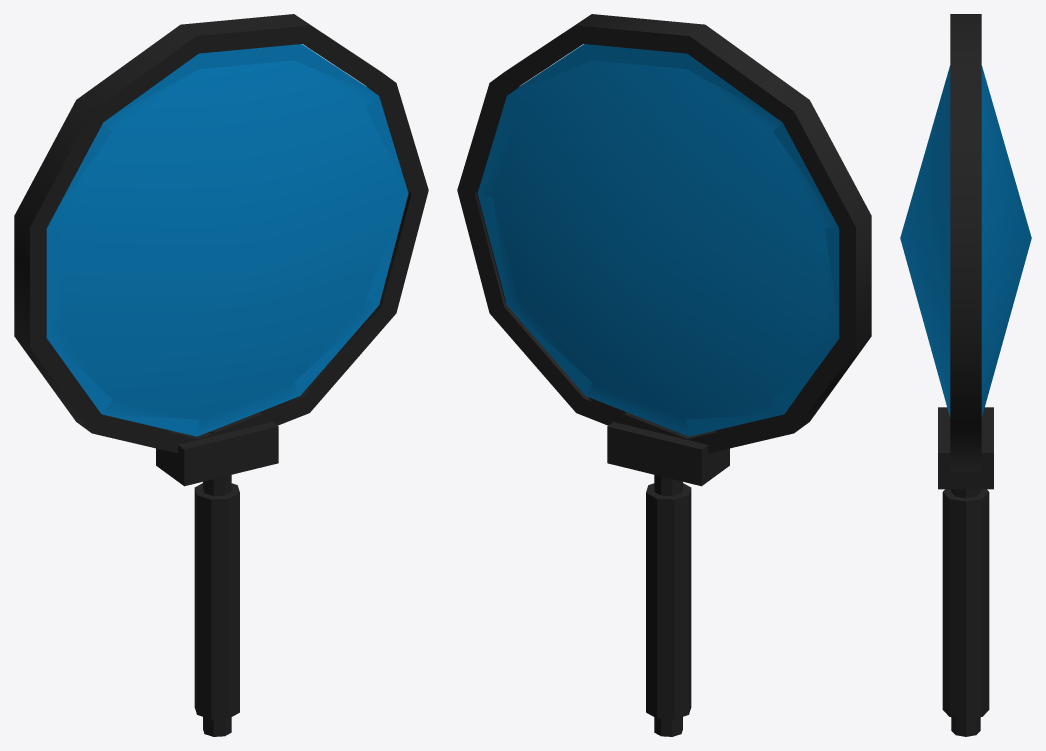
The model's file is magnifyingGlass.glb.
The picture shows the model from 3 angles, left to right: view 1: azimuth 30°, elevation 25°; view 2: azimuth 150°, elevation 25°; view 3: azimuth 270°, elevation 25°; orthographic projection.
Visible parts, largest first — view 1: crystal, magnifyingglass; view 2: crystal, magnifyingglass; view 3: magnifyingglass, crystal.
Part boxes in pixels (bbox=[...]): crystal: bbox=[46, 44, 408, 436]; magnifyingglass: bbox=[14, 14, 428, 736]; crystal: bbox=[477, 44, 839, 436]; magnifyingglass: bbox=[457, 14, 871, 736]; magnifyingglass: bbox=[938, 14, 993, 736]; crystal: bbox=[900, 65, 1031, 417].
Bounding box in the file's own units: 0.2992 × 0.5072 × 0.0862.
2 materials, 2 textured.
